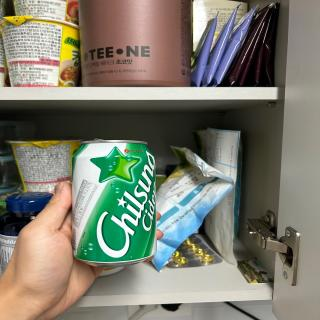chilsung: (72, 137, 156, 270)
